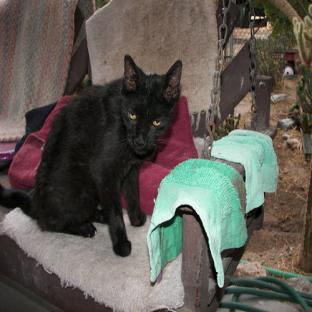Animal: (0, 55, 182, 256)
